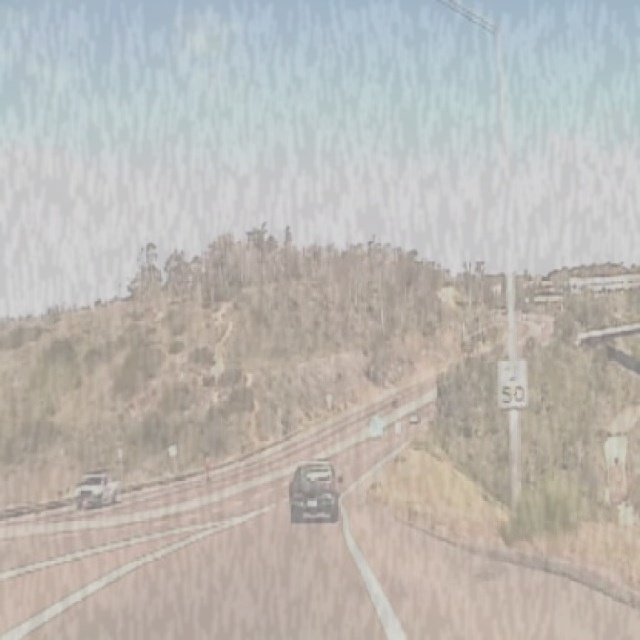speedLimit50: (497, 357, 528, 409)
